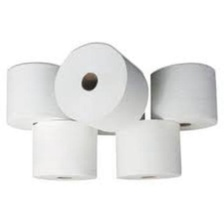tissue: (50, 39, 152, 137), (145, 59, 224, 135), (0, 58, 77, 135), (27, 113, 102, 187), (109, 115, 187, 184)
